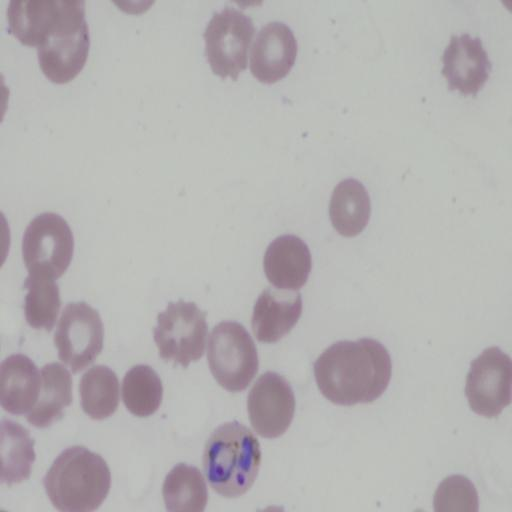Infected: (203, 420, 262, 497)
Uninfected: (314, 339, 391, 406), (44, 446, 112, 512), (203, 8, 256, 79), (153, 298, 209, 365), (7, 0, 83, 48), (21, 212, 76, 276), (207, 321, 257, 388), (465, 347, 512, 417), (57, 304, 106, 371), (246, 373, 295, 437), (441, 34, 490, 94), (249, 22, 297, 81), (251, 289, 302, 344), (262, 235, 313, 290), (28, 363, 73, 424), (38, 29, 89, 82), (328, 178, 372, 236), (23, 268, 63, 331), (0, 356, 41, 416), (80, 365, 122, 419), (121, 364, 163, 417), (0, 419, 35, 481), (161, 465, 207, 512), (432, 475, 480, 512)
